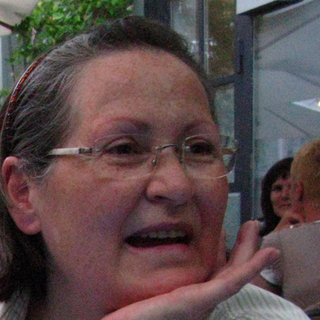eye: (98, 139, 146, 162), (175, 138, 219, 162)
